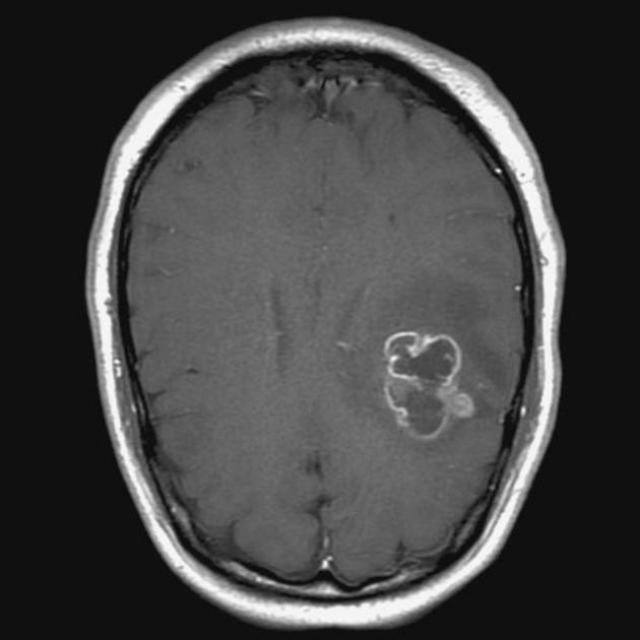brain tumor: (385, 334, 474, 440)
